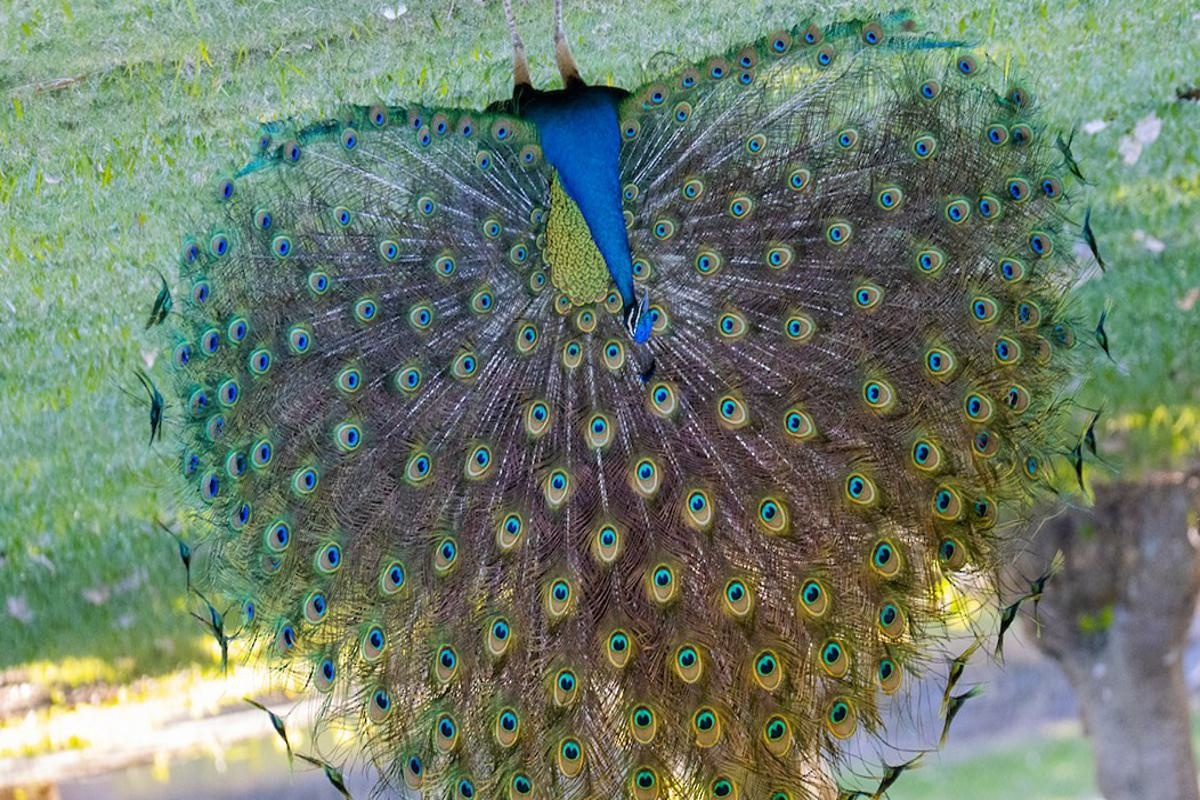peacock: (157, 52, 1087, 800)
